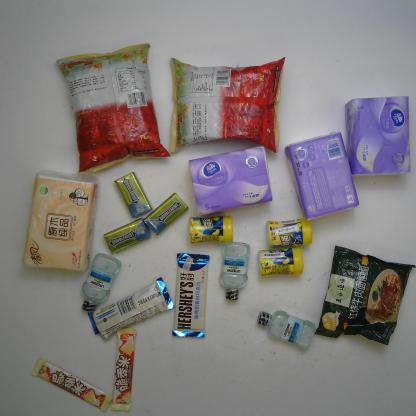Chocolate: (84, 275, 174, 340), (31, 357, 113, 414), (170, 251, 211, 340), (110, 327, 138, 412)
Gum: (143, 191, 189, 236), (113, 172, 152, 218), (103, 217, 150, 255), (256, 247, 304, 278), (264, 217, 313, 247), (187, 217, 234, 244)
Instant Noodles: (314, 244, 416, 347)
Personal Hygiene: (79, 252, 123, 313), (256, 308, 316, 350), (218, 241, 250, 300)
Puffed Food: (55, 40, 171, 176), (168, 55, 287, 153)
Tissue: (23, 174, 98, 274), (284, 130, 360, 222), (188, 145, 274, 216), (344, 95, 412, 176)
